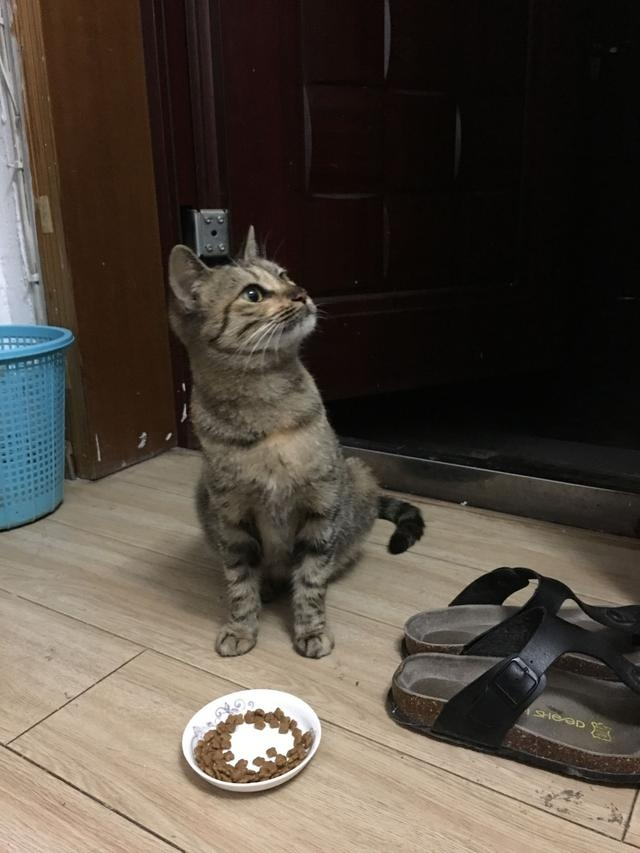cat: (168, 225, 426, 658)
